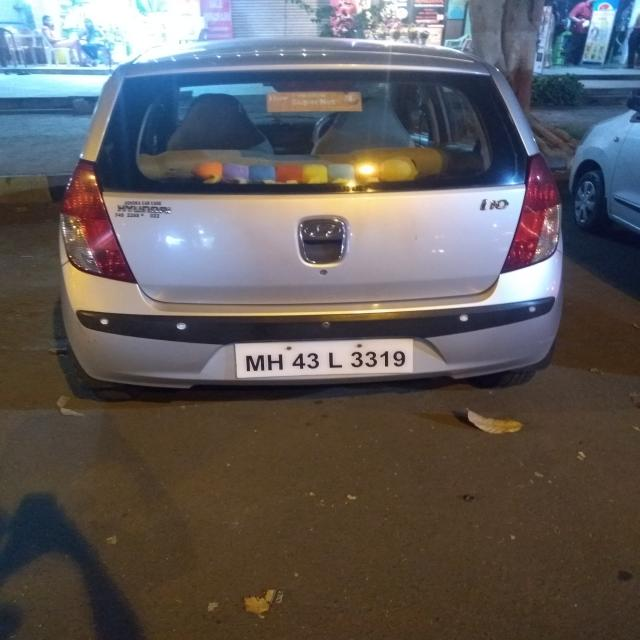Number-Plate: (235, 341, 414, 378)
